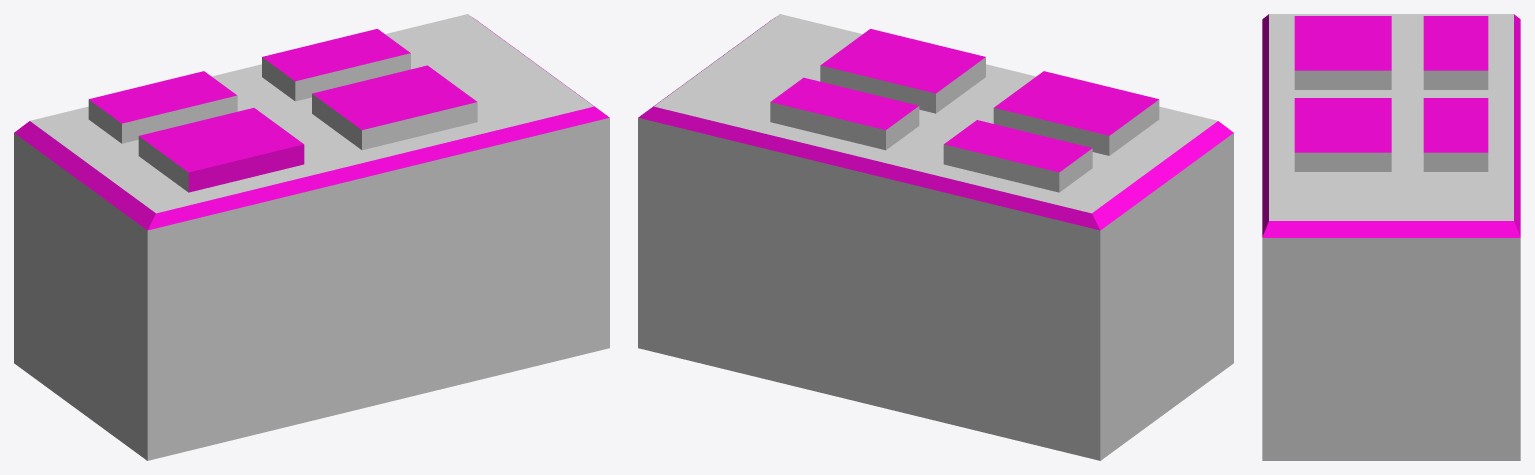
File: Rect_02.fbx
3 views of the same model, side by side, from view 1: azimuth 30°, elevation 25°; view 2: azimuth 150°, elevation 25°; view 3: azimuth 270°, elevation 25° (orthographic). The views are drawn at different scales.
Visible parts, largest first — view 1: Cube; view 2: Cube; view 3: Cube.
Boxes of the visible parts, x1,y1,x2,y2 form: Cube: [14, 14, 609, 460]; Cube: [638, 14, 1233, 460]; Cube: [1262, 14, 1520, 460].
Size of the model in its own units: 4 by 2.17 by 2.
